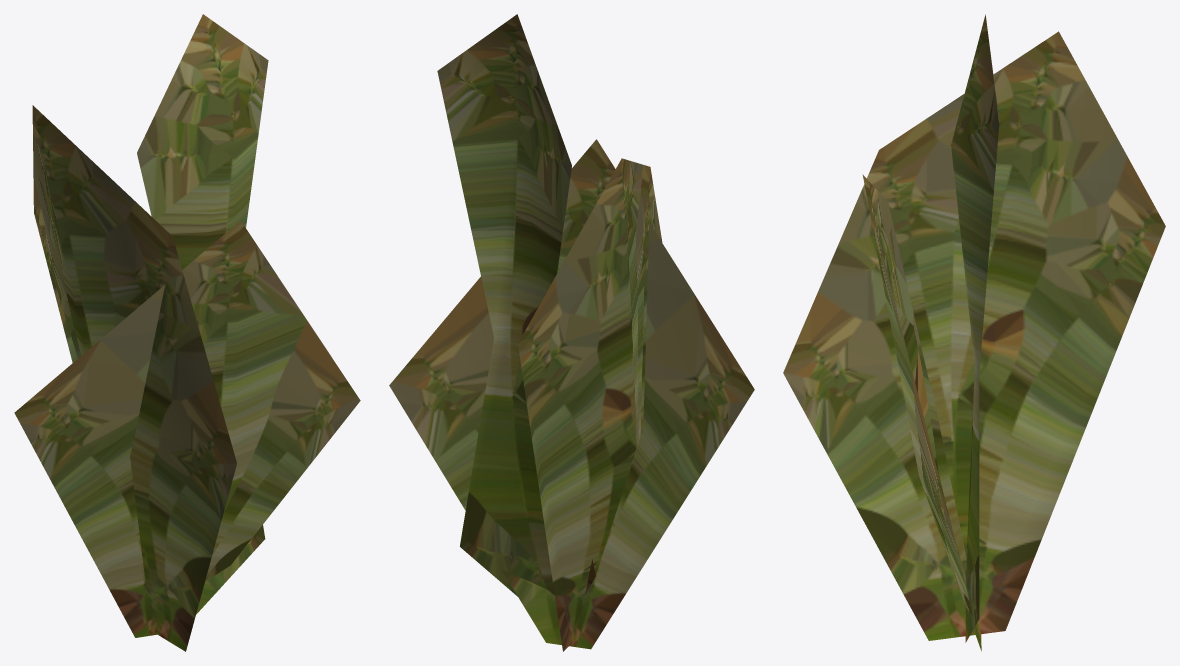
The model's file is Grass_top_var1.fbx.
The picture shows the model from 3 angles, left to right: view 1: azimuth 30°, elevation 25°; view 2: azimuth 150°, elevation 25°; view 3: azimuth 270°, elevation 25°; orthographic projection. The views are drawn at different scales.
Parts seen in each view (by area): view 1: Grass_top_var1_LOD0; view 2: Grass_top_var1_LOD0; view 3: Grass_top_var1_LOD0.
Boxes of the visible parts, left/top/right/bottom form: Grass_top_var1_LOD0: left=14, top=14, right=360, bottom=651; Grass_top_var1_LOD0: left=389, top=14, right=754, bottom=651; Grass_top_var1_LOD0: left=783, top=14, right=1165, bottom=651.
Size of what is drawn, in the model's own units: 44.52 by 73.7 by 39.24.
